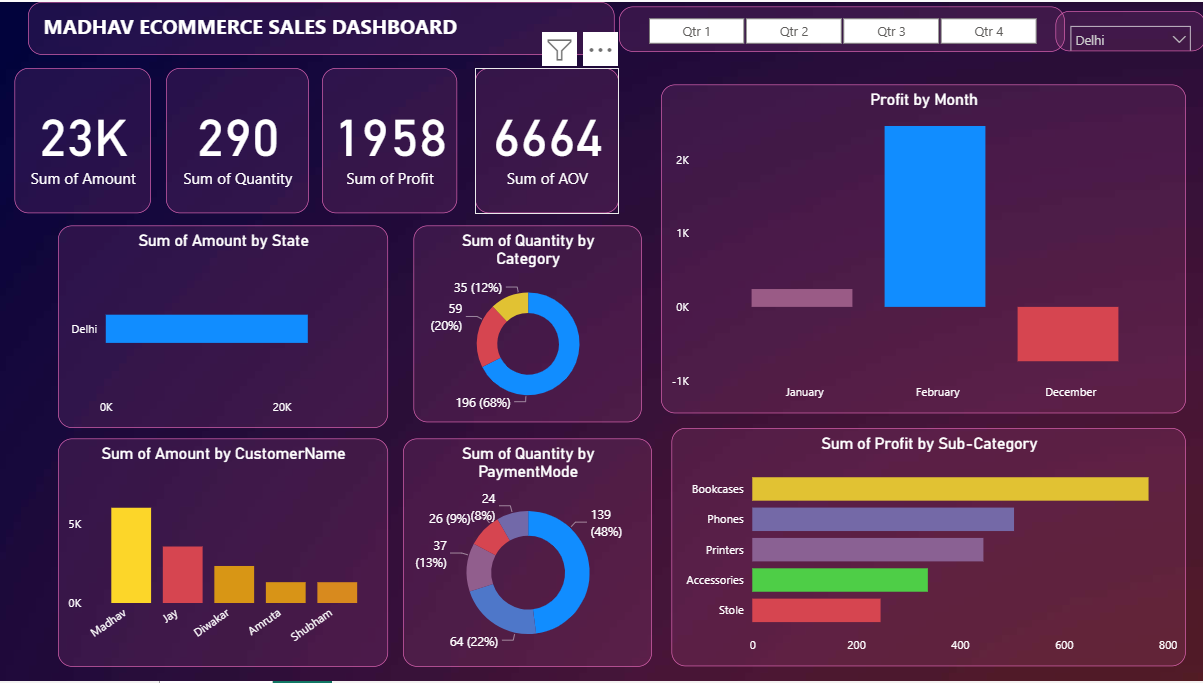

The page's visual inventory and layout, read from the dashboard file:
{"tool":"powerbi","page":{"name":"Page 1","canvas":[1280,720],"ordinal":0},"visuals":[{"type":"textbox","box":[31.8,0,621.9,55.7],"z":0},{"type":"columnChart","title":"Profit by Month","fields":{"Category":["Orders.Order Date.Variation.Date Hierarchy.Month"],"Y":["Details.Profit"]},"box":[703.1,87.5,556.7,348.3],"z":1000},{"type":"barChart","fields":{"Y":["Details.Profit"],"Category":["Details.Sub-Category"]},"box":[714.2,451.7,545.6,252.9],"z":2000},{"type":"donutChart","fields":{"Category":["Details.Category"],"Y":["Details.Quantity"]},"box":[440.6,237,241.8,208.4],"z":3000},{"type":"donutChart","fields":{"Category":["Details.PaymentMode","Details.Category"],"Y":["Details.Quantity"]},"box":[429.5,462.9,264,241.8],"z":4000},{"type":"card","fields":{"Values":["Details.Amount"]},"box":[17.5,70,144.7,154.3],"z":5000},{"type":"card","fields":{"Values":["Details.Quantity"]},"box":[178.1,70,151.1,154.3],"z":6000},{"type":"card","fields":{"Values":["Details.Profit"]},"box":[343.6,70,143.2,154.3],"z":7000},{"type":"card","fields":{"Values":["Details.AOV"]},"box":[505.8,70,152.7,154.3],"z":8000},{"type":"barChart","fields":{"Category":["Orders.State"],"Y":["Details.Amount"]},"box":[63.6,237,349.9,214.7],"z":9000},{"type":"columnChart","fields":{"Category":["Orders.CustomerName"],"Y":["Details.Amount"]},"box":[63.6,462.9,349.9,241.8],"z":10000},{"type":"slicer","fields":{"Values":["Orders.Order Date.Variation.Date Hierarchy.Quarter"]},"box":[658.5,4.8,472.4,47.7],"z":11000},{"type":"slicer","fields":{"Values":["Orders.State"]},"box":[1121.4,9.5,159.1,42.9],"z":12000}]}

Visuals, with their boxes in screenshot pixels (x1, y1, x2, y2), scaled from the page's 1280x720 canvas onto the 1203x683 screenshot:
textbox: box(30, 0, 614, 53)
"Profit by Month" columnChart: box(661, 83, 1184, 413)
barChart - Details.Profit x Details.Sub-Category: box(671, 428, 1184, 668)
donutChart - Details.Category x Details.Quantity: box(414, 225, 641, 423)
donutChart - Details.PaymentMode x Details.Category: box(404, 439, 652, 668)
card - Details.Amount: box(16, 66, 152, 213)
card - Details.Quantity: box(167, 66, 309, 213)
card - Details.Profit: box(323, 66, 458, 213)
card - Details.AOV: box(475, 66, 619, 213)
barChart - Orders.State x Details.Amount: box(60, 225, 389, 428)
columnChart - Orders.CustomerName x Details.Amount: box(60, 439, 389, 668)
slicer - Orders.Order Date.Variation.Date Hierarchy.Quarter: box(619, 5, 1063, 50)
slicer - Orders.State: box(1054, 9, 1202, 50)
